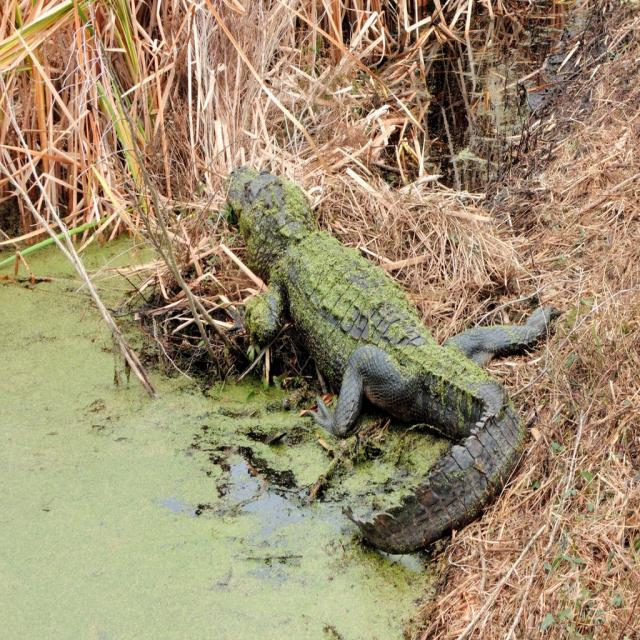crocodile: (200, 143, 585, 557)
